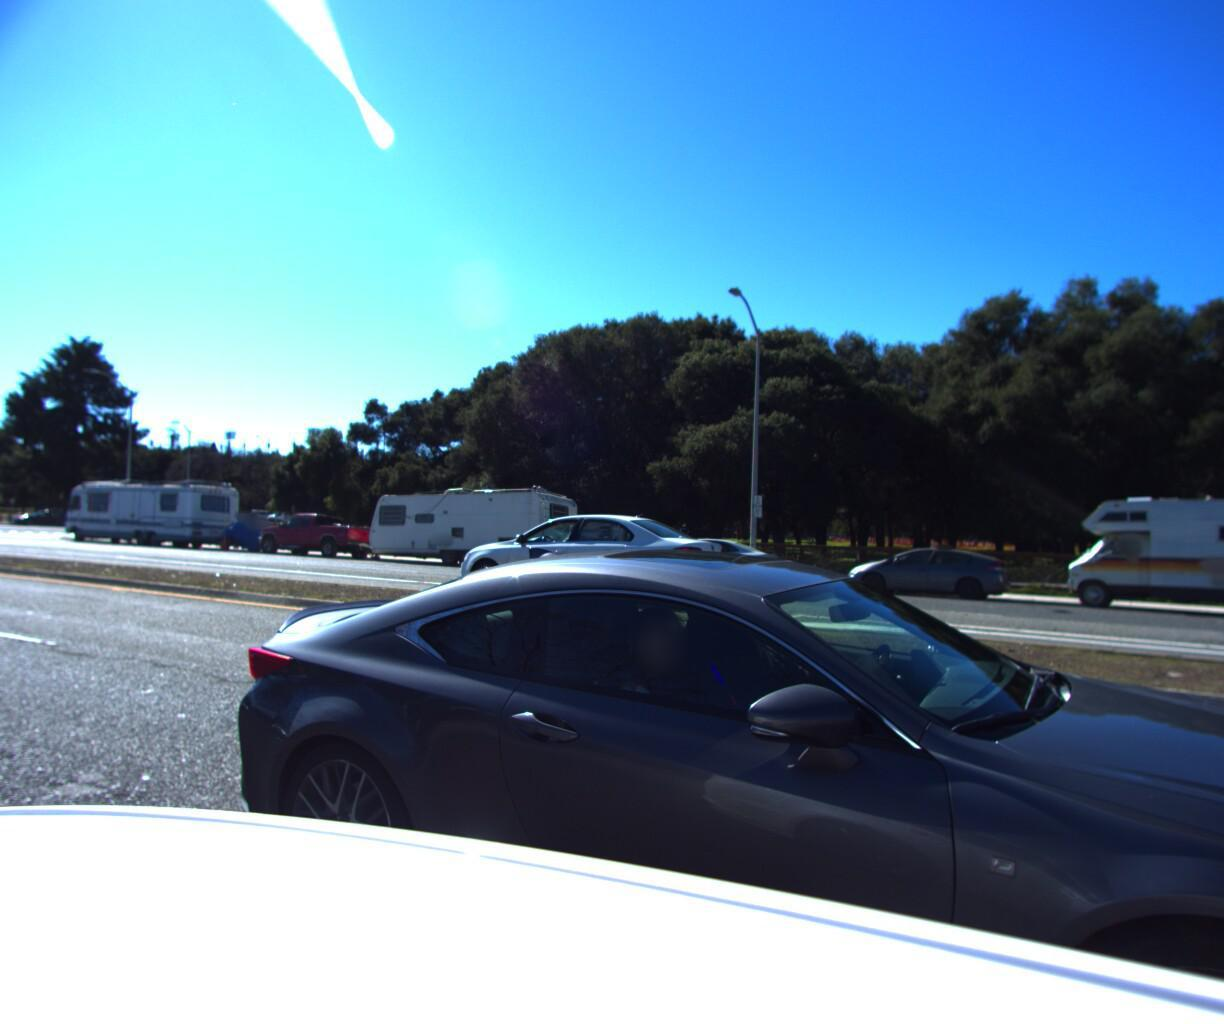car: (167, 508, 1224, 1024), (450, 499, 761, 614), (831, 537, 1015, 607), (626, 532, 787, 584), (252, 513, 386, 564)
other_vehicle: (1053, 483, 1224, 627), (363, 483, 590, 575), (55, 479, 250, 555), (201, 519, 272, 557)
